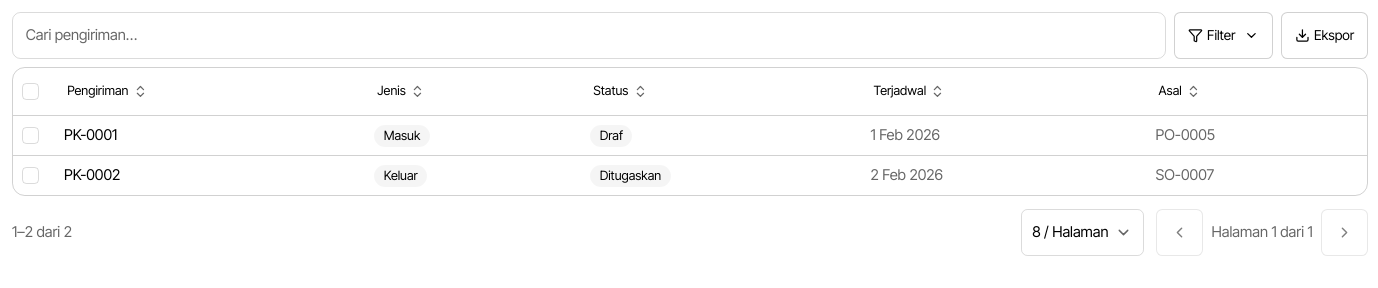
it: ShipmentsSection › filters rows through the search box
This screenshot has width=1378, height=288.
Expected: the link "PK-0001" is shown, [64,126,117,144]
In the search field with placeholder "Cari pengiriman…": (589, 35) [12,12,1166,59], type "PK-0002"
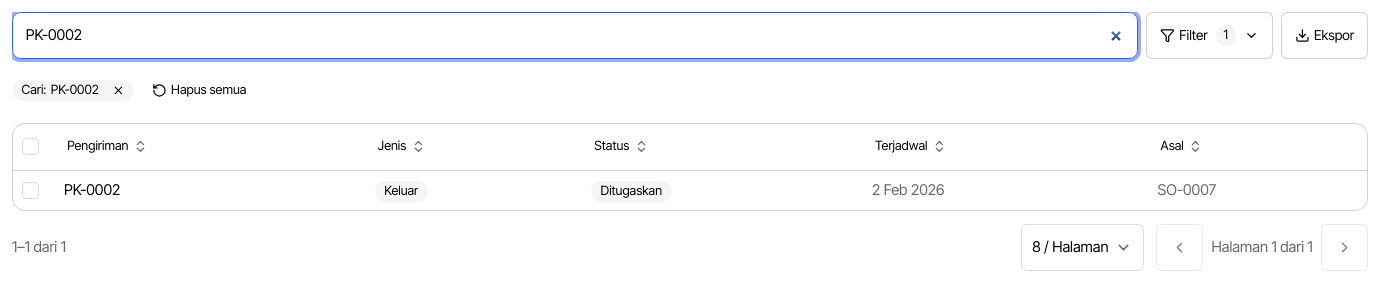
Result: the text "PK-0002" is shown at [51,82,99,99]
Result: the link "PK-0001" is gone
